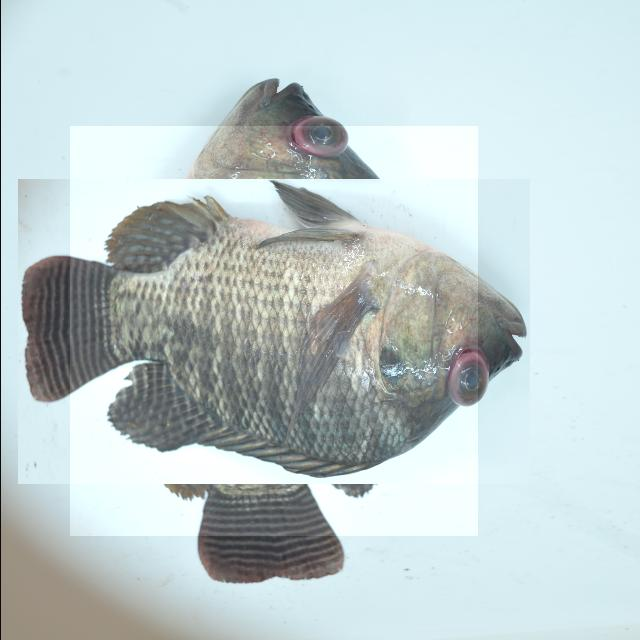streptococcus Disease: (69, 126, 477, 536)
